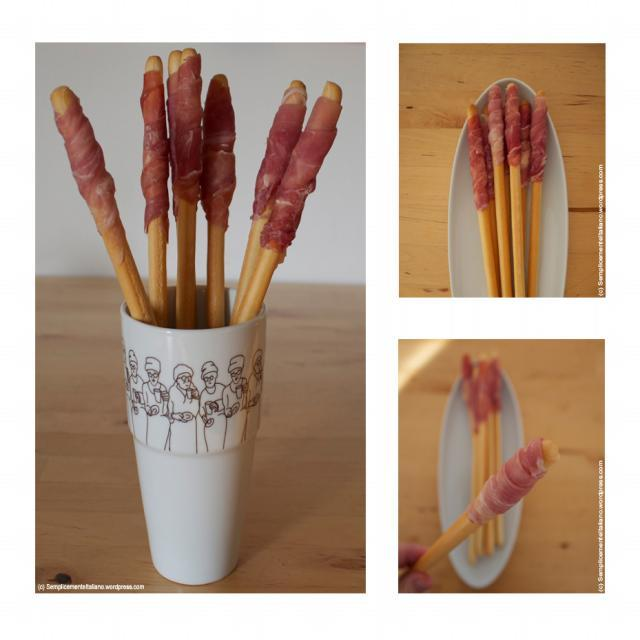Grissini: (52, 48, 344, 326), (464, 84, 552, 295), (420, 438, 560, 570)
